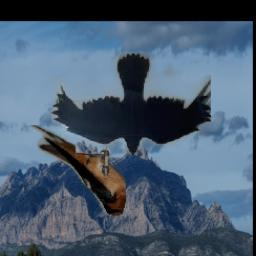Crow: (51, 53, 211, 155)
Swallow: (27, 125, 126, 215)
